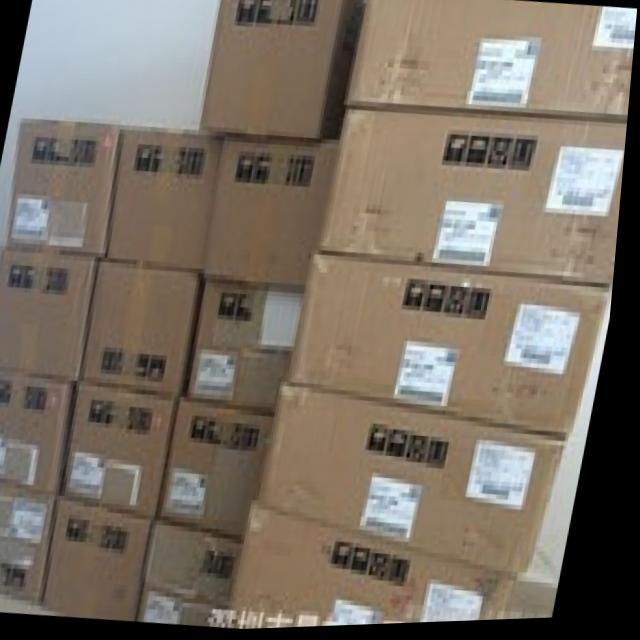box: (262, 379, 574, 580), (295, 248, 618, 442), (320, 107, 630, 293), (233, 502, 525, 631), (348, 0, 638, 124), (204, 0, 366, 141), (209, 138, 343, 287), (86, 258, 209, 403), (109, 130, 224, 279), (67, 386, 187, 526), (7, 122, 123, 258), (193, 279, 309, 414), (169, 403, 280, 541), (0, 246, 106, 386), (55, 496, 160, 623), (0, 367, 86, 496), (149, 521, 251, 629), (0, 478, 64, 607)
